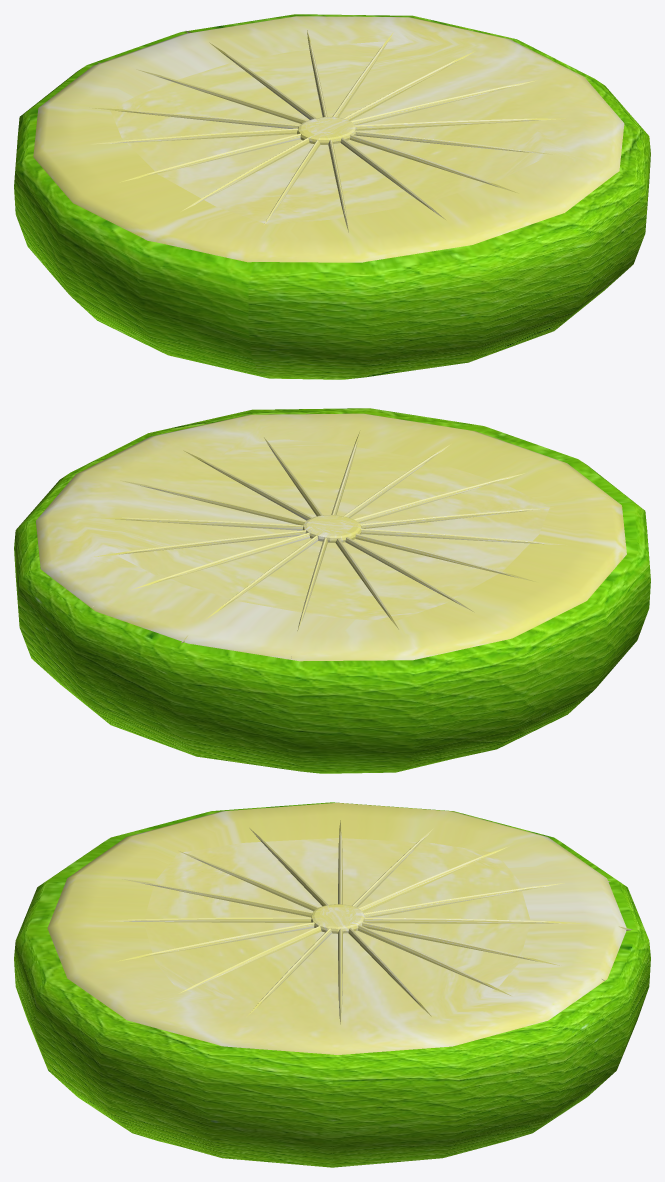
The model's file is lime.fbx.
3 views of the same model, one above another, from view 1: azimuth 30°, elevation 25°; view 2: azimuth 150°, elevation 25°; view 3: azimuth 270°, elevation 25° (orthographic).
Visible parts, largest first — view 1: Cube; view 2: Cube; view 3: Cube.
Part boxes in pixels (x1,y1,x2,y2): Cube: (14, 14, 650, 379); Cube: (14, 408, 650, 773); Cube: (14, 802, 650, 1167).
Size of the model in its own units: 183 by 58.01 by 183.
2 materials, 2 textured.
